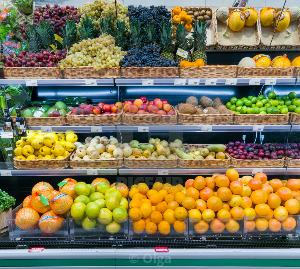grape: (5, 0, 80, 36), (59, 34, 124, 75), (1, 38, 64, 74), (124, 38, 174, 74), (80, 0, 130, 35), (127, 1, 171, 38)
kiwi: (188, 8, 215, 28)
lemon: (12, 126, 74, 170)
lime: (75, 176, 131, 240), (226, 88, 300, 120)
orange: (132, 173, 300, 235), (1, 178, 75, 230), (228, 2, 296, 38), (242, 50, 300, 72), (170, 4, 192, 40), (180, 56, 204, 70)
peach: (120, 91, 173, 121), (70, 92, 118, 120)
pear: (74, 136, 125, 168), (173, 137, 227, 167), (125, 135, 171, 165)
plum: (228, 137, 300, 165)
